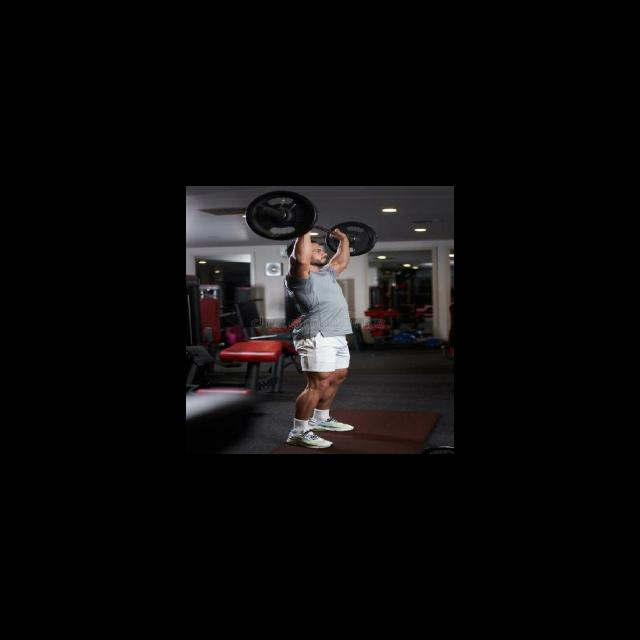barbell: (241, 188, 324, 243)
